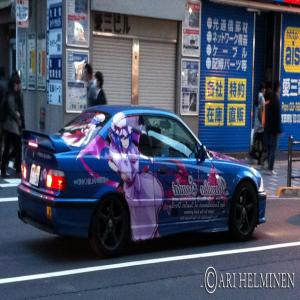Vehicle-registration-plate: (30, 164, 43, 185)
